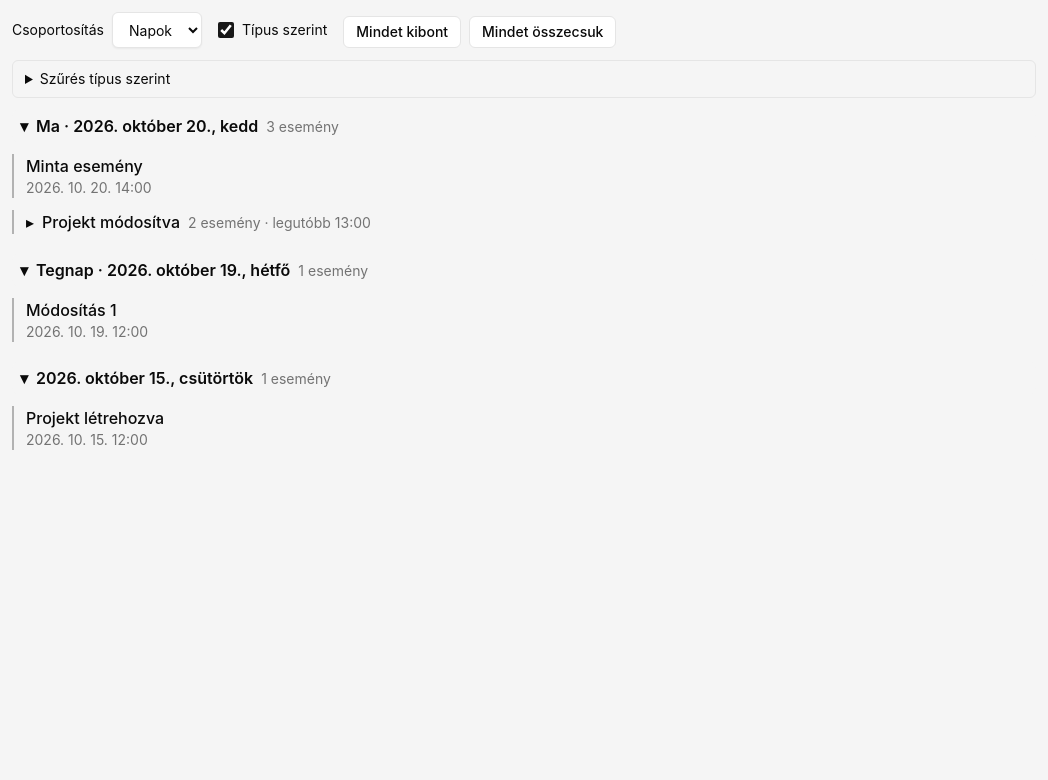
Test: Timeline › napi csoportokba tesz, a típuscsoport összecsukva indul, kibontható
This screenshot has width=1048, height=780.
Expected: the button "▾ Ma · 2026. október 20., kedd 3 esemény" is shown, [12,110,1036,142]
Click the button "▸ Projekt módosítva 2 esemény · legutóbb 13:00" at (111, 222), box [26,210,1036,234]
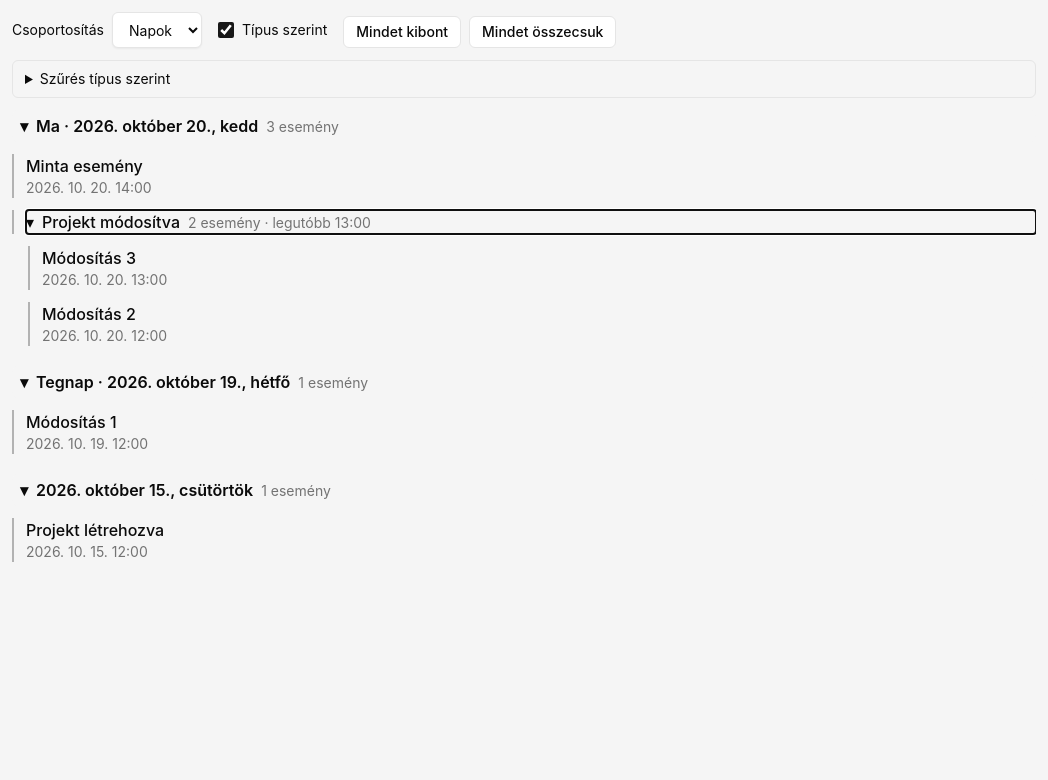
Click the button "▾ Ma · 2026. október 20., kedd 3 esemény" at (147, 126), box [12,110,1036,142]
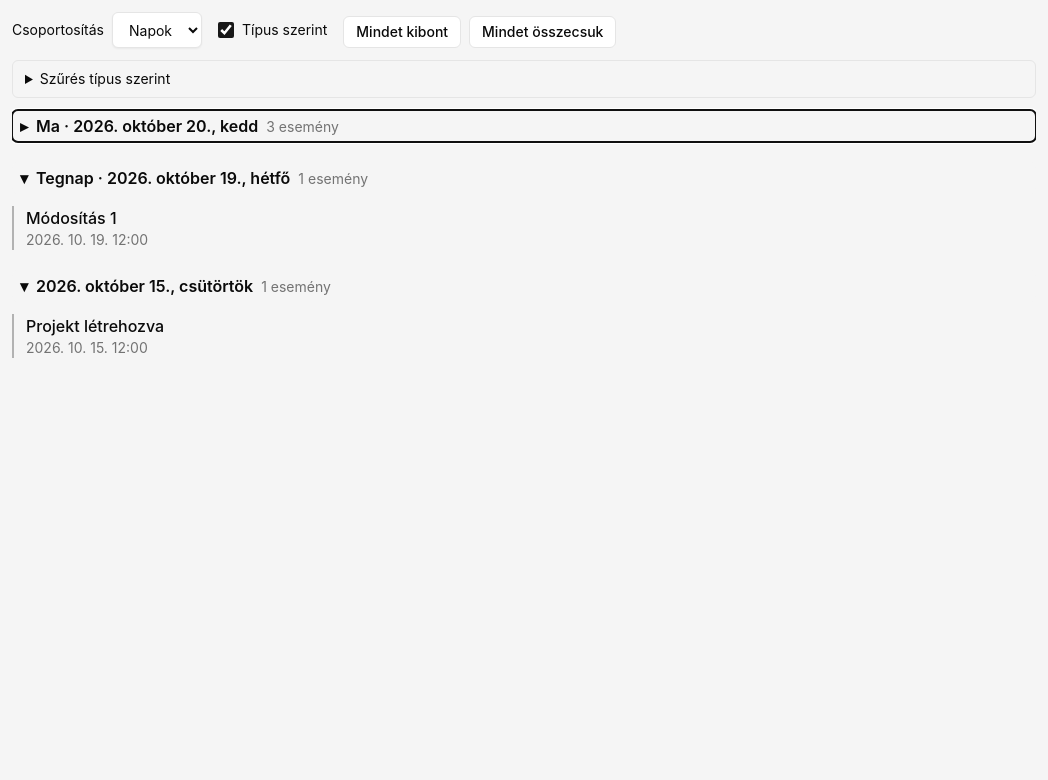
Expected: the button "▸ Ma · 2026. október 20., kedd 3 esemény" is collapsed, [12,110,1036,142]
